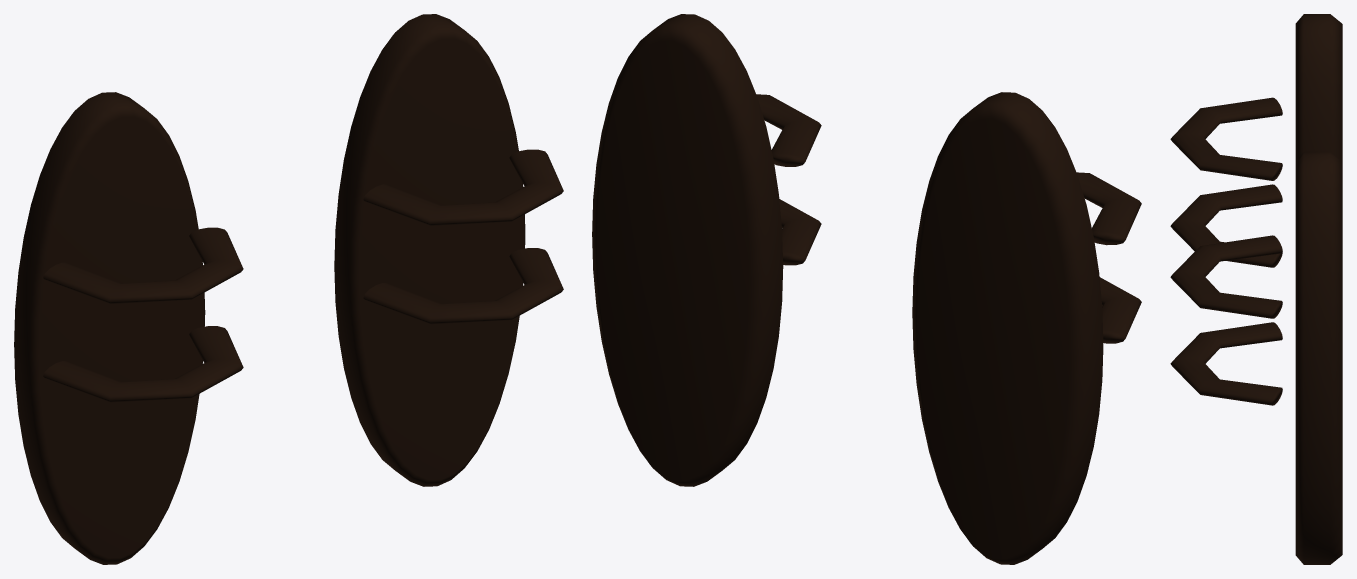
File: SM_PilgrimStudyV1_Leather.obj
3 views of the same model, side by side, from view 1: azimuth 30°, elevation 25°; view 2: azimuth 150°, elevation 25°; view 3: azimuth 270°, elevation 25° (orthographic). The views are drawn at different scales.
Visible parts, largest first — view 1: SandalSoleL, SandalSoleR, SandalStrapR0, SandalStrapL0, SandalStrapL1, SandalStrapR1; view 2: SandalSoleR, SandalSoleL, SandalStrapR0, SandalStrapL0, SandalStrapL1, SandalStrapR1; view 3: SandalSoleR, SandalSoleL, SandalStrapL0, SandalStrapR0, SandalStrapR1, SandalStrapL1.
Boxes of the visible parts, x1,y1,x2,y2 form: SandalSoleL: (14,92,205,564); SandalSoleR: (334,14,525,486); SandalStrapR0: (363,149,563,225); SandalStrapL0: (43,227,243,303); SandalStrapL1: (43,326,243,402); SandalStrapR1: (363,248,563,324); SandalSoleR: (592,14,783,486); SandalSoleL: (912,92,1103,564); SandalStrapR0: (756,94,821,166); SandalStrapL0: (1076,172,1141,245); SandalStrapL1: (1099,277,1141,343); SandalStrapR1: (779,199,821,265); SandalSoleR: (1295,151,1342,564); SandalSoleL: (1295,14,1342,161); SandalStrapL0: (1170,97,1282,180); SandalStrapR0: (1170,235,1282,318); SandalStrapR1: (1170,322,1282,405); SandalStrapL1: (1170,184,1282,267).
Size of the model in its own units: 25.21 by 22 by 8.45.
